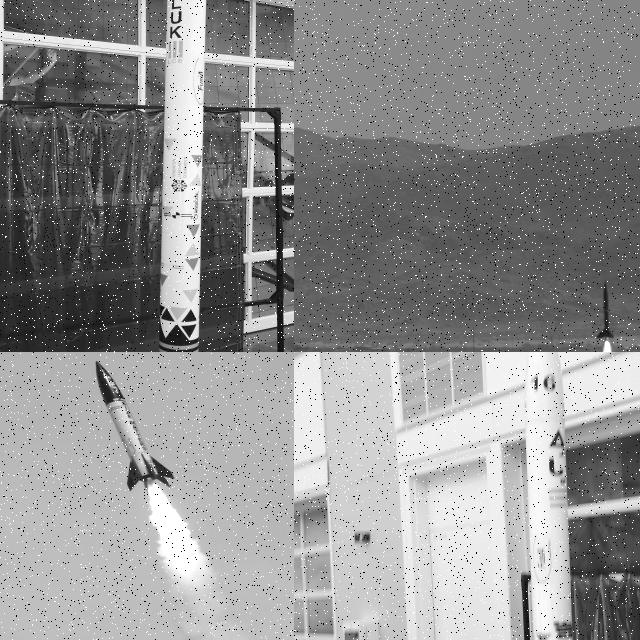Rocket: (158, 0, 206, 352), (525, 352, 573, 640), (94, 360, 176, 492), (596, 279, 616, 339)
